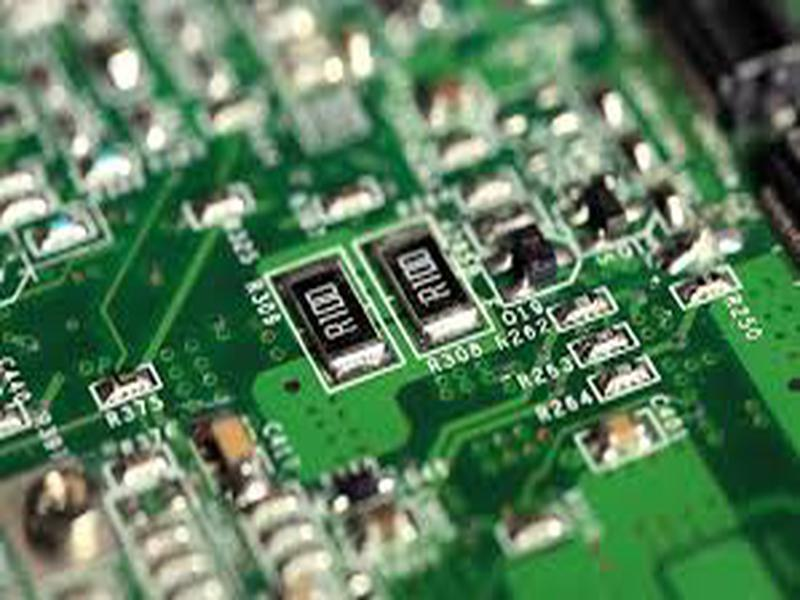SMD resistor: (272, 248, 392, 379), (375, 232, 497, 345)
